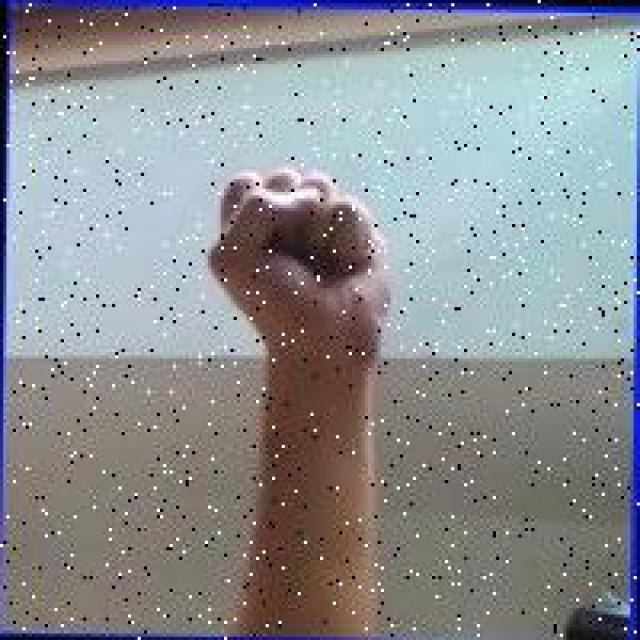S: (197, 154, 398, 358)
